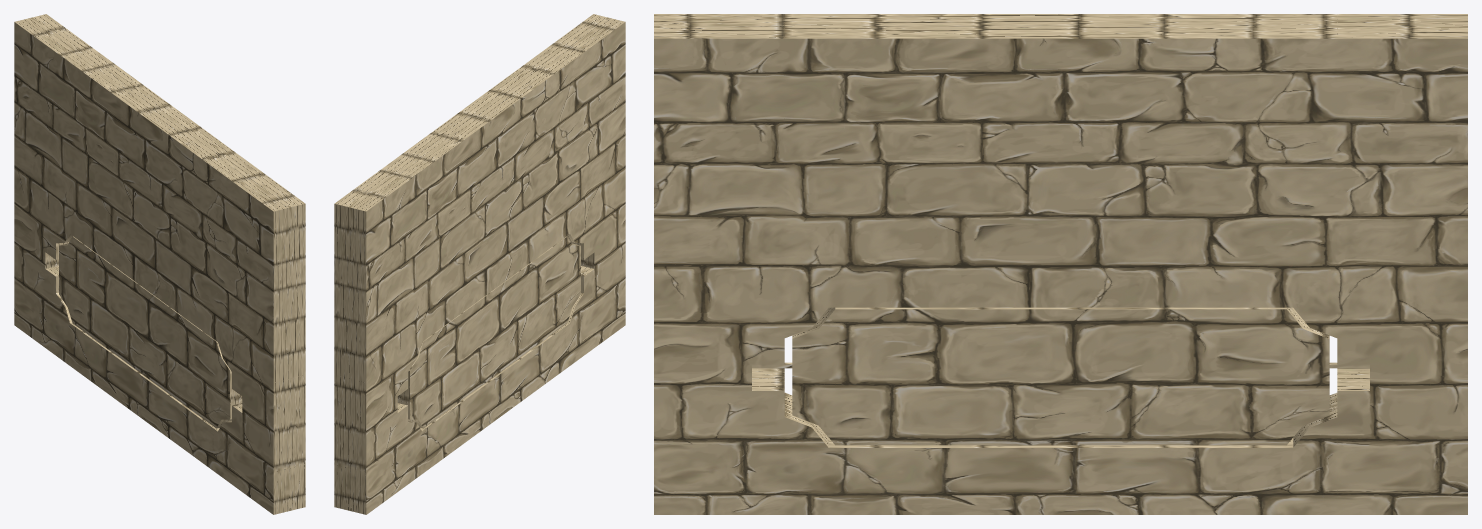
Rendered from EnigTurnaround.FBX.
3 renders of one model, left to right at view 1: azimuth 30°, elevation 25°; view 2: azimuth 150°, elevation 25°; view 3: azimuth 270°, elevation 25°, orthographic. The views are drawn at different scales.
Parts seen in each view (by area): view 1: Box001, Ruedas; view 2: Box001, Ruedas; view 3: Box001, Ruedas.
Part boxes in pixels (bbox=[...]): Box001: bbox=[14, 14, 305, 514]; Ruedas: bbox=[59, 236, 242, 428]; Box001: bbox=[334, 14, 625, 514]; Ruedas: bbox=[397, 236, 580, 428]; Box001: bbox=[654, 14, 1467, 514]; Ruedas: bbox=[752, 307, 1369, 445].
Size of the model in its own units: 10.84 by 97.73 by 151.
1 material, 1 textured.
